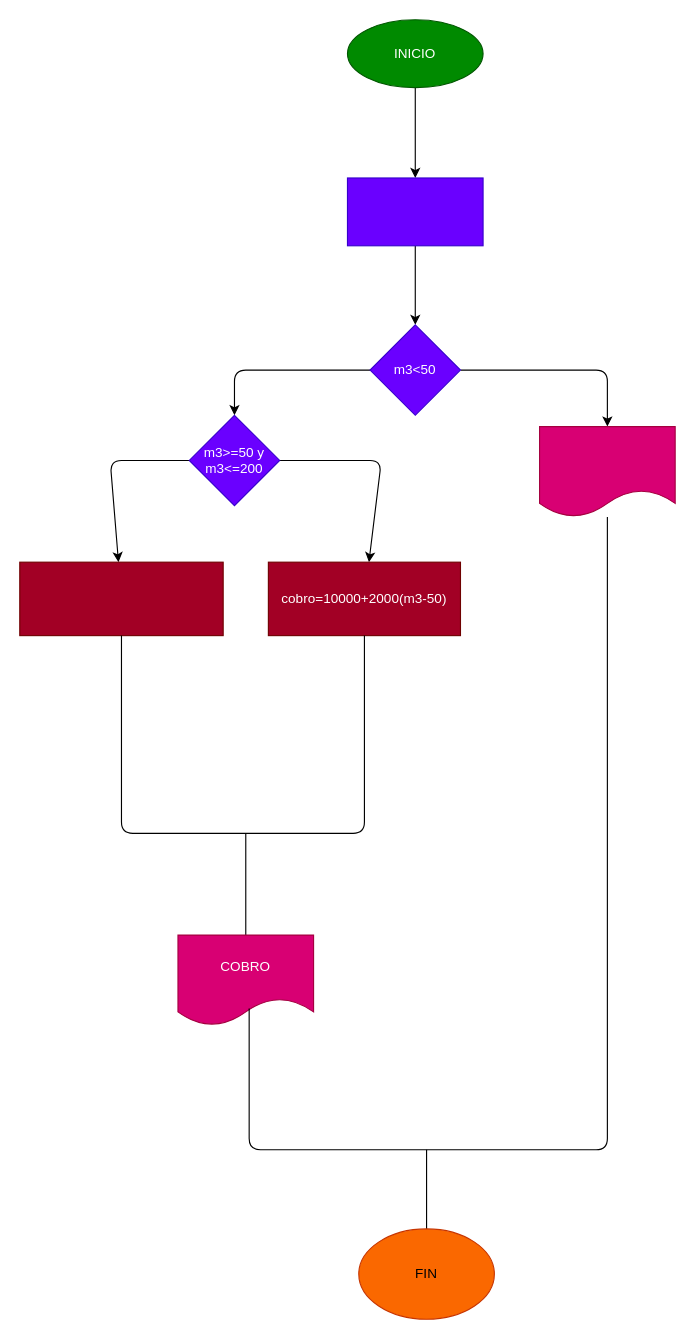
Image size: 695x1339. Some labels were removed from this diagram. The centre of each missing label's shape, as x and y in pixels:
Cobra=10000: pixel 606 471
cobro=10000+3000(m3-50): pixel 121 598
m3 de agua gastada: pixel 414 211
